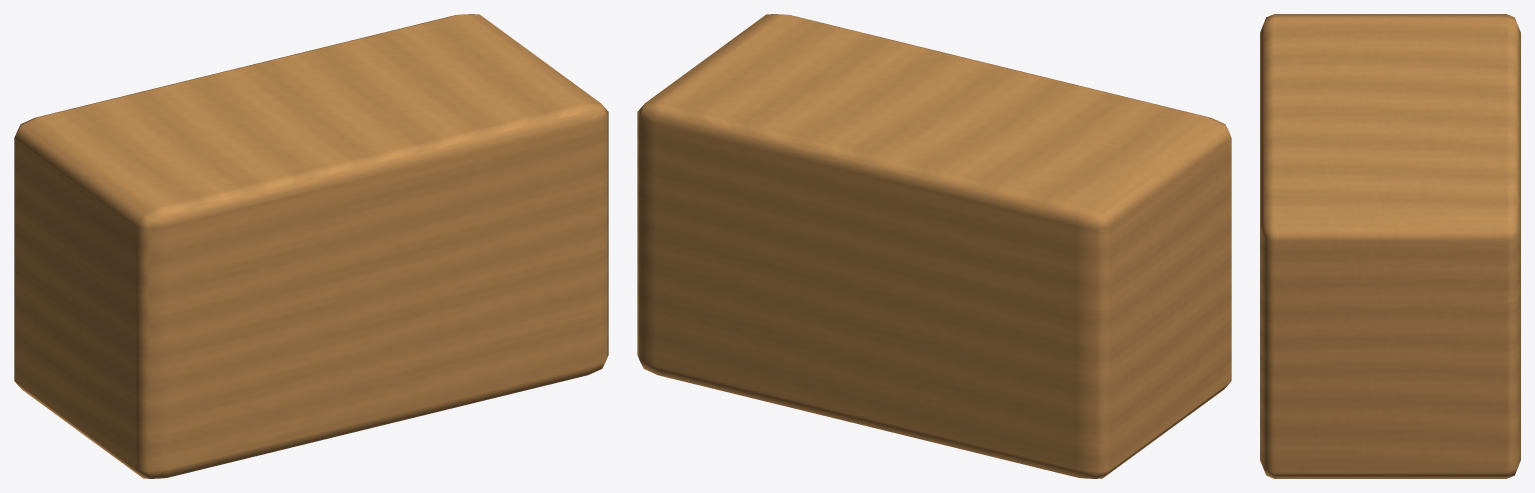
Rendered from wall_beech_2m.glb.
The picture shows the model from 3 angles, left to right: view 1: azimuth 30°, elevation 25°; view 2: azimuth 150°, elevation 25°; view 3: azimuth 270°, elevation 25°; orthographic projection. The views are drawn at different scales.
Visible parts, largest first — view 1: Block.001; view 2: Block.001; view 3: Block.001.
Part boxes in pixels (x1,y1,x2,y2): Block.001: (14,14,608,478); Block.001: (637,14,1231,478); Block.001: (1260,14,1520,478).
Size of the model in its own units: 2 by 1.1 by 1.
Materials: 1 (1 with a texture image).
